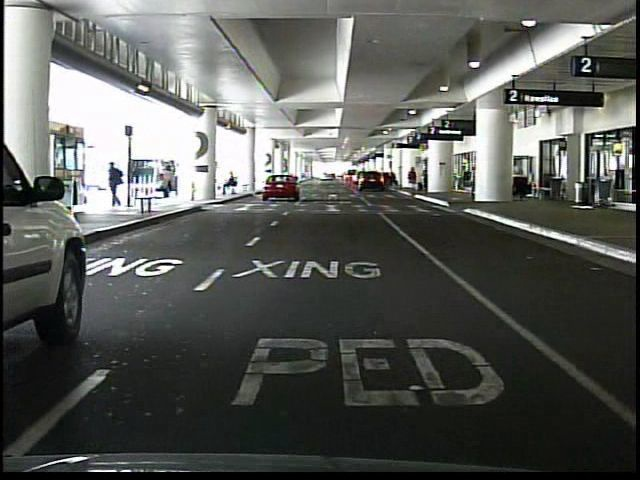person: (109, 162, 127, 207), (223, 173, 241, 197), (409, 165, 420, 193)
